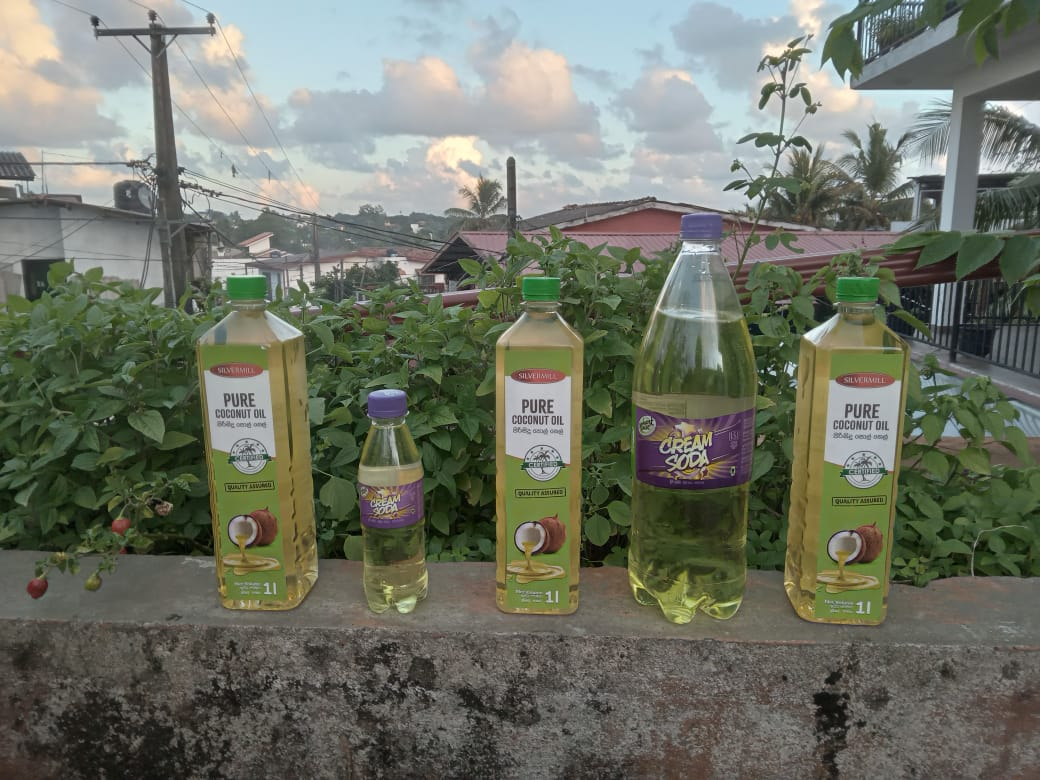L: (629, 210, 757, 623)
Xs: (356, 392, 427, 616)
